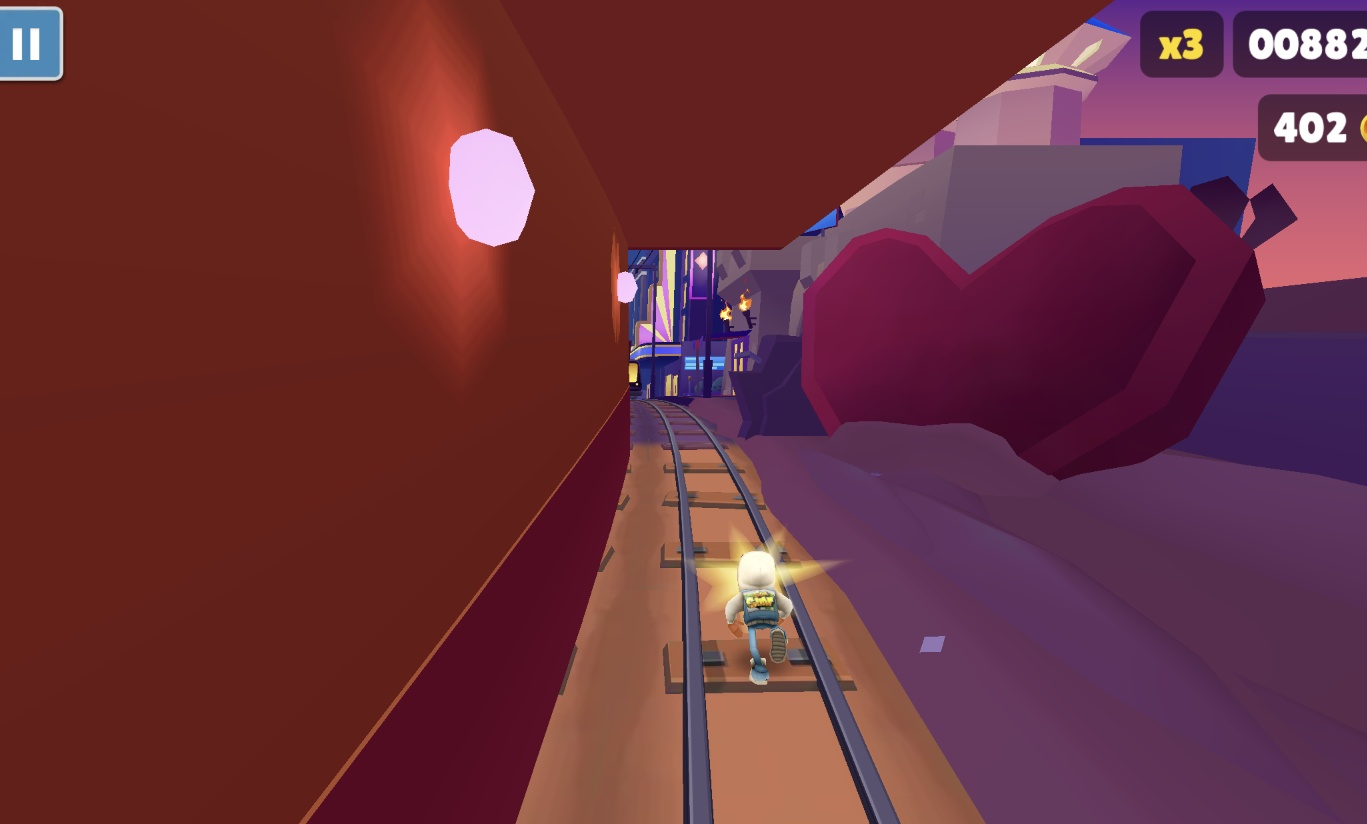pillar: (0, 0, 634, 824)
train: (629, 356, 643, 395)
